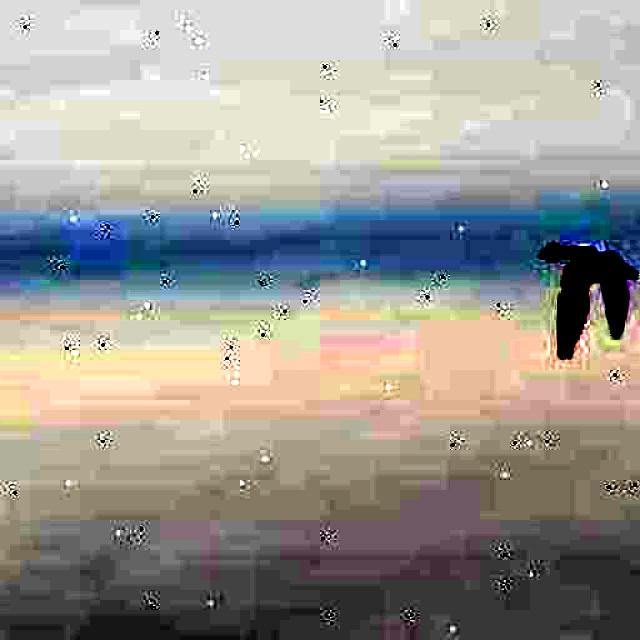airplane: (539, 244, 640, 358)
